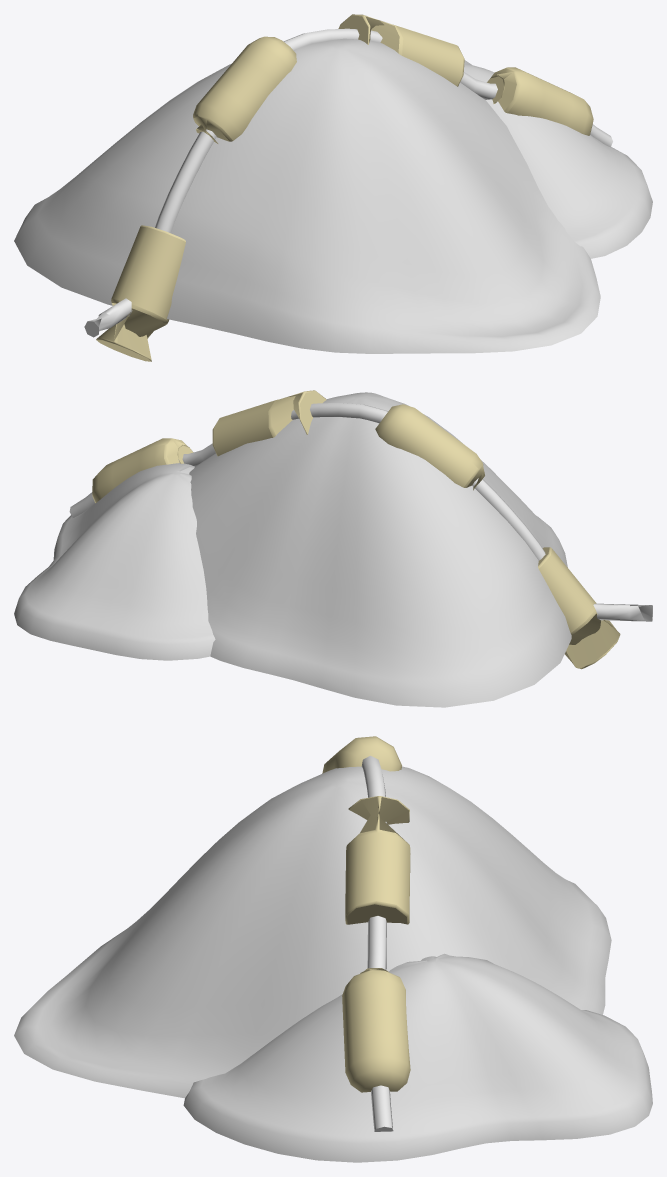
Rendered from propbeach_net_pile_3.glb.
3 renders of one model, top to bottom at view 1: azimuth 30°, elevation 25°; view 2: azimuth 150°, elevation 25°; view 3: azimuth 270°, elevation 25°, orthographic. The views are drawn at different scales.
Visible parts, largest first — view 1: pb_net_pile_3_pb_net, pb_net_pile_3_bamboo, pb_net_pile_3_pb_rope; view 2: pb_net_pile_3_pb_net, pb_net_pile_3_bamboo, pb_net_pile_3_pb_rope; view 3: pb_net_pile_3_pb_net, pb_net_pile_3_bamboo, pb_net_pile_3_pb_rope.
Part boxes in pixels (<box>): pb_net_pile_3_pb_net: <box>14,38,652,353</box>; pb_net_pile_3_bamboo: <box>96,14,593,361</box>; pb_net_pile_3_pb_rope: <box>84,28,612,337</box>; pb_net_pile_3_pb_net: <box>14,392,571,707</box>; pb_net_pile_3_bamboo: <box>92,390,620,669</box>; pb_net_pile_3_pb_rope: <box>69,403,652,621</box>; pb_net_pile_3_pb_net: <box>14,766,652,1162</box>; pb_net_pile_3_bamboo: <box>322,736,410,1092</box>; pb_net_pile_3_pb_rope: <box>361,755,393,1131</box>.
Size of the model in its own units: 1.64 by 0.6918 by 1.42.
